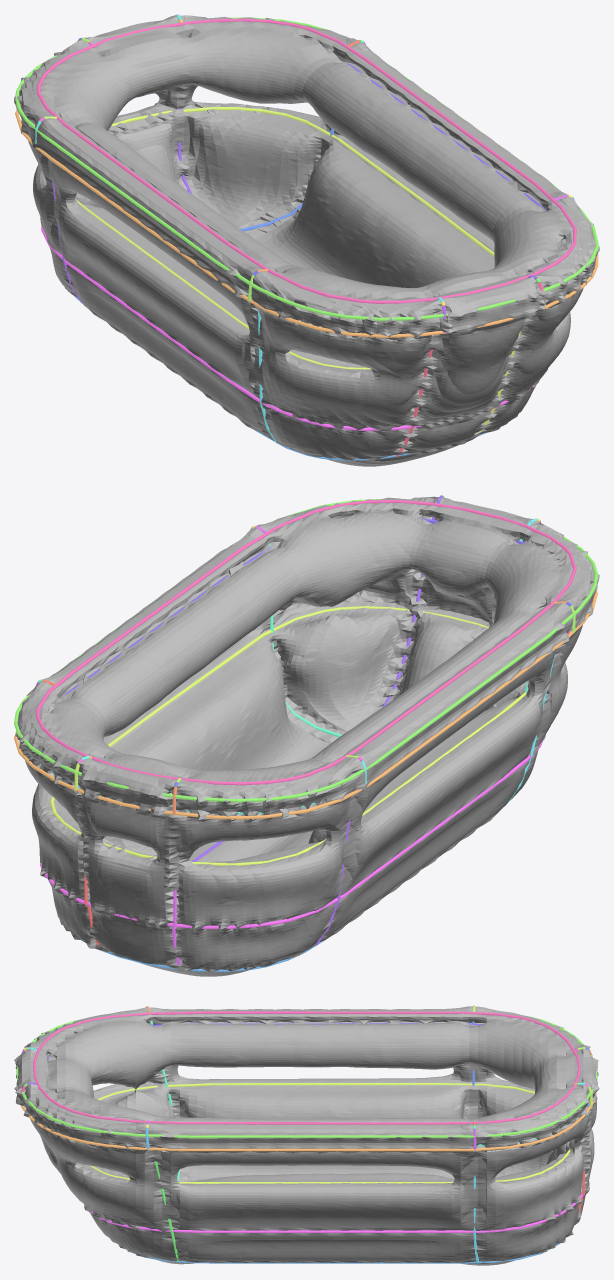
File: flowrep_bathtub.gltf
3 views of the same model, one above another, from view 1: azimuth 30°, elevation 25°; view 2: azimuth 150°, elevation 25°; view 3: azimuth 270°, elevation 25° (orthographic). The views are drawn at different scales.
Size of the model in its own units: 0.4465 by 0.3063 by 0.8721.
